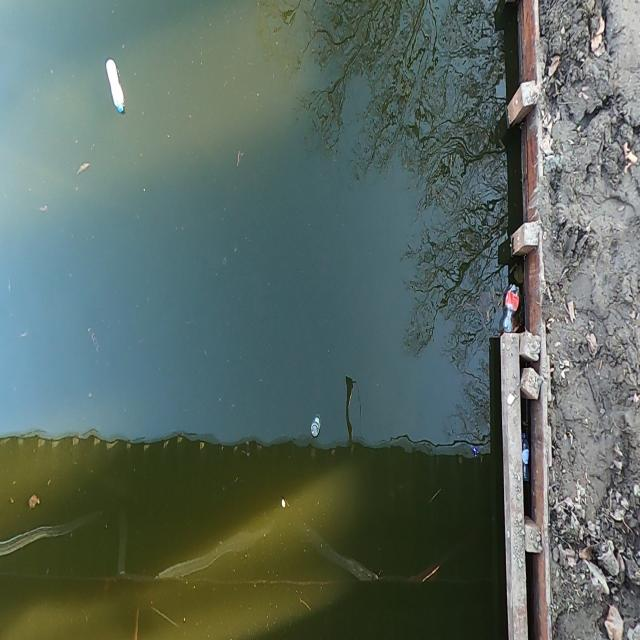Bouteille plastique: (106, 59, 127, 115), (502, 282, 521, 333), (522, 435, 532, 480)
Non plastique: (310, 411, 322, 438)
